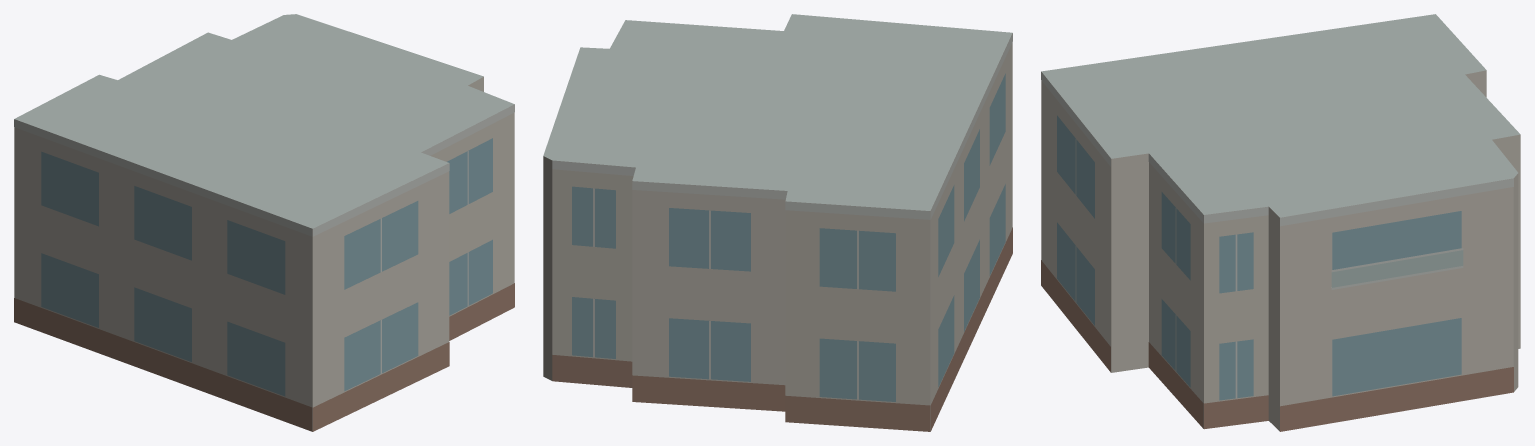
File: survey-upis-33036062.glb
3 views of the same model, side by side, from view 1: azimuth 30°, elevation 25°; view 2: azimuth 150°, elevation 25°; view 3: azimuth 270°, elevation 25° (orthographic). The views are drawn at different scales.
Visible parts, largest first — view 1: survey-upis-33036062.tmp; view 2: survey-upis-33036062.tmp; view 3: survey-upis-33036062.tmp.
Boxes of the visible parts, x1=… form: survey-upis-33036062.tmp: x1=14, y1=14, x2=514, y2=431; survey-upis-33036062.tmp: x1=543, y1=14, x2=1012, y2=431; survey-upis-33036062.tmp: x1=1041, y1=14, x2=1520, y2=431.
Size of the model in its own units: 12.46 by 6.1 by 12.39.
